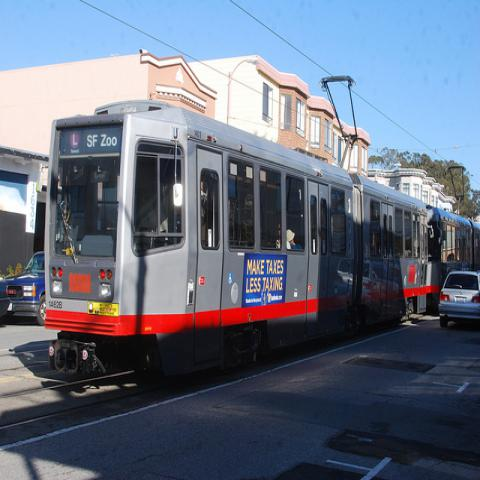car: (5, 252, 46, 327), (438, 269, 479, 332)
